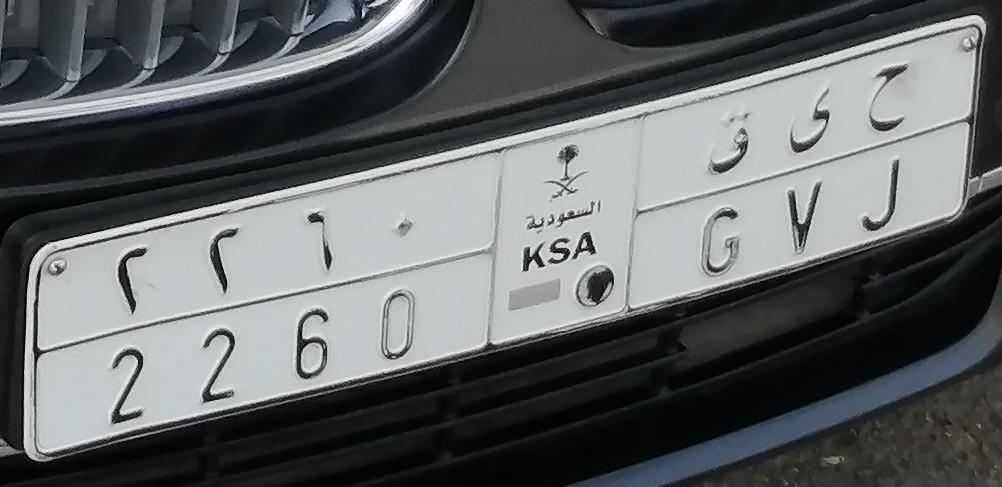0: (378, 212, 422, 362)
2: (98, 238, 158, 436), (193, 222, 248, 407)
6: (290, 203, 341, 381)
G: (692, 107, 758, 276)
J: (849, 60, 917, 232)
V: (772, 85, 838, 257)
